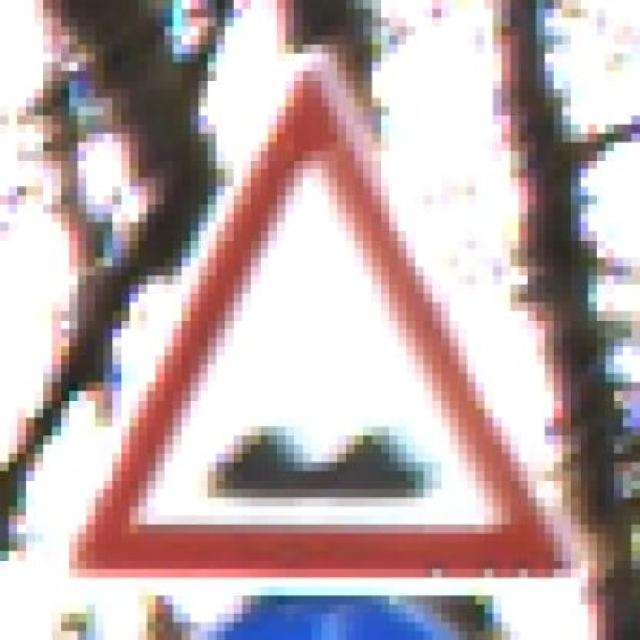Uneven Road: (64, 43, 584, 594)
